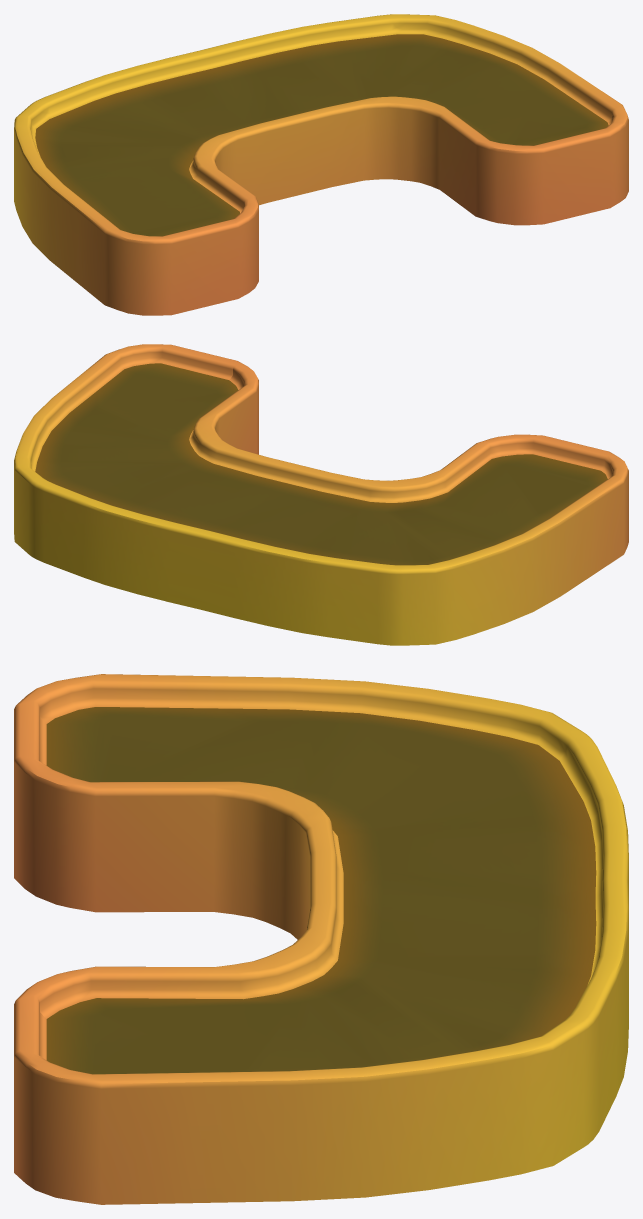
File: GardenBed_Final.fbx
The picture shows the model from 3 angles, top to bottom: view 1: azimuth 30°, elevation 25°; view 2: azimuth 150°, elevation 25°; view 3: azimuth 270°, elevation 25°; orthographic projection. The views are drawn at different scales.
Visible parts, largest first — view 1: GardenBed_Final; view 2: GardenBed_Final; view 3: GardenBed_Final.
Boxes of the visible parts, x1,y1,x2,y2 form: GardenBed_Final: [14, 14, 628, 315]; GardenBed_Final: [14, 344, 628, 645]; GardenBed_Final: [14, 674, 628, 1204].
Bounding box in the file's own units: 705 × 97.16 × 445.
1 material, 1 textured.
